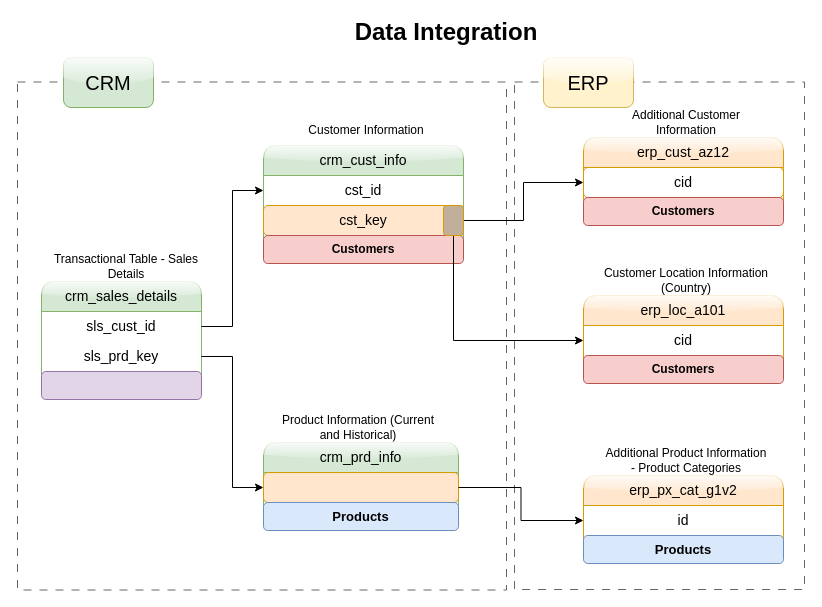
Image size: 822x607. Some labels were removed from this diagram. Each missing label, with the centre of its shape:
prd_key: the point at 360,487
Sales: the point at 121,385
